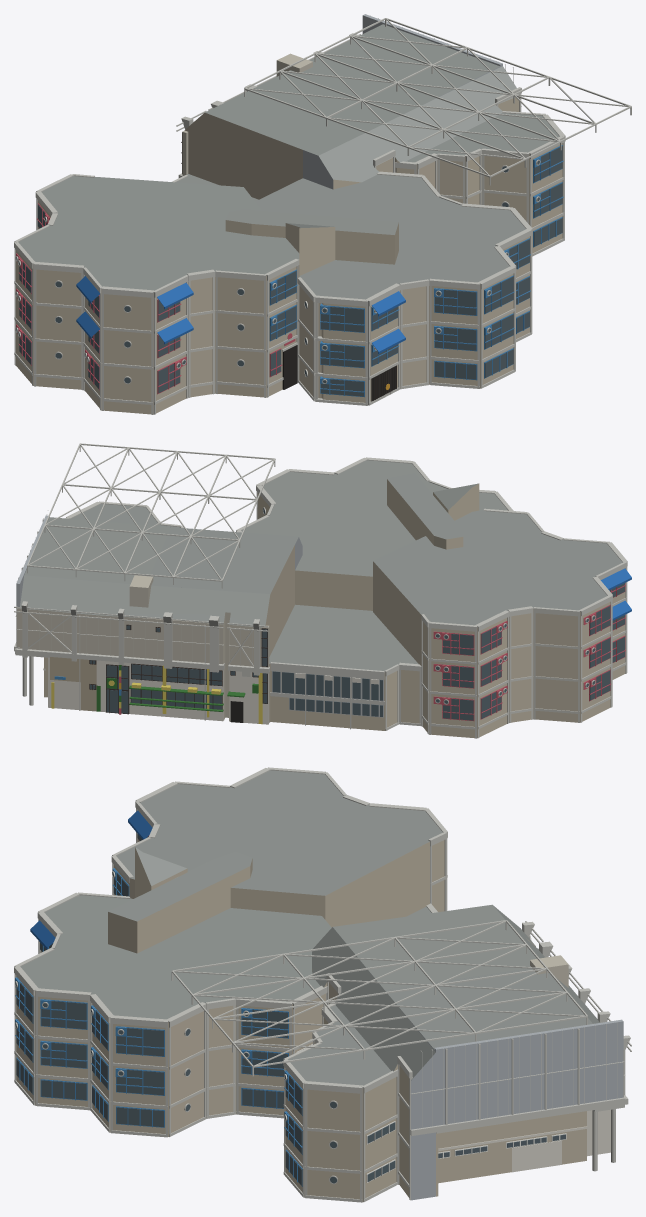
The model's file is jungle-swindenstraat.glb.
The picture shows the model from 3 angles, top to bottom: view 1: azimuth 30°, elevation 25°; view 2: azimuth 150°, elevation 25°; view 3: azimuth 270°, elevation 25°; orthographic projection. The views are drawn at different scales.
Visible parts, largest first — view 1: jungle-swindenstraat; view 2: jungle-swindenstraat; view 3: jungle-swindenstraat.
Boxes of the visible parts, box(x1,y1,x2,y2) form: jungle-swindenstraat: box(14, 14, 631, 414); jungle-swindenstraat: box(14, 443, 631, 738); jungle-swindenstraat: box(14, 767, 631, 1202).
Size of the model in its own units: 62.3 by 15.22 by 51.04.
